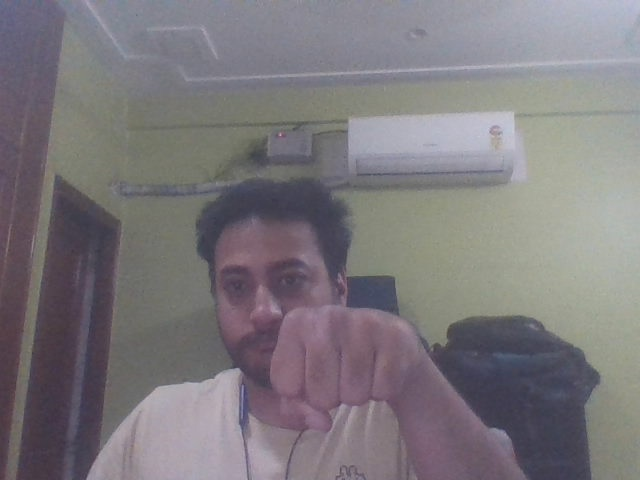Yes: (266, 302, 475, 443)
